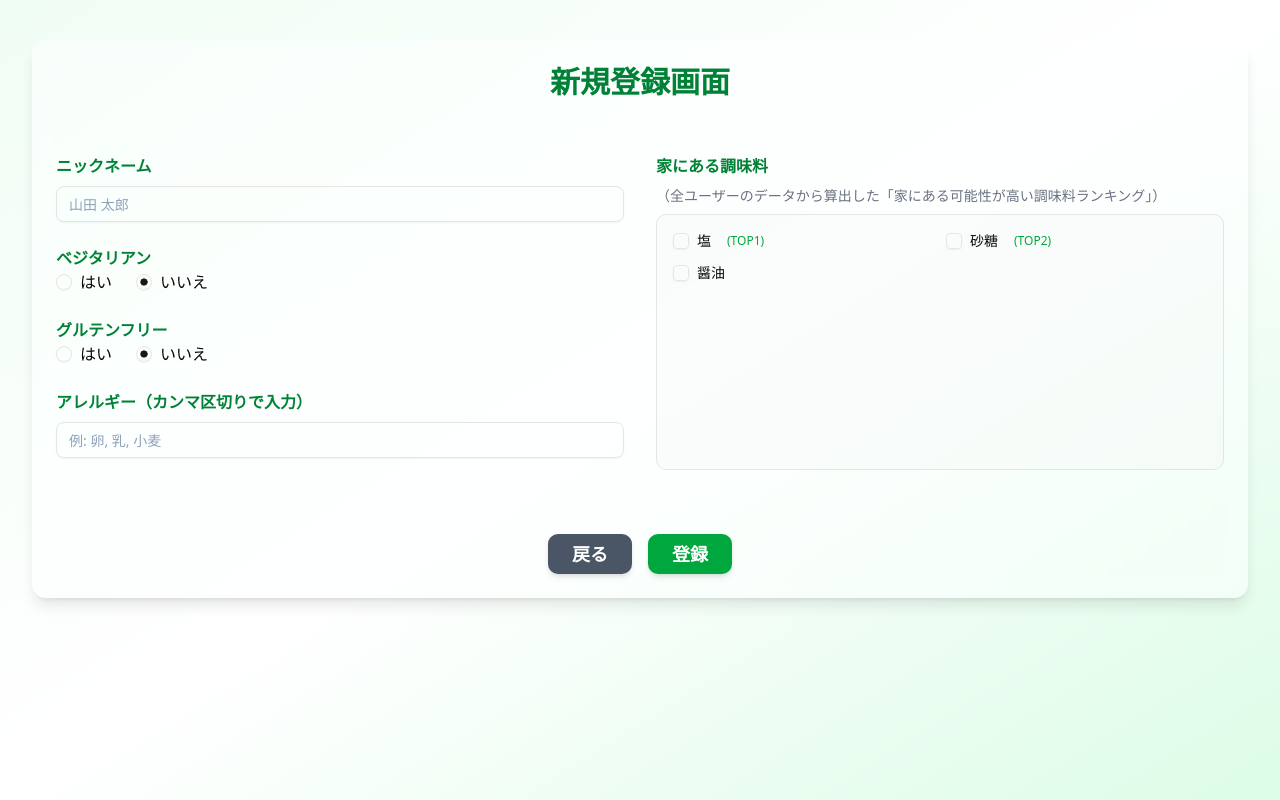
Test: 新規登録画面 › ニックネームがないとエラーメッセージが表示される
Step 1. Clear the field labelled "ニックネーム" → (340, 204), box [56,186,624,222]
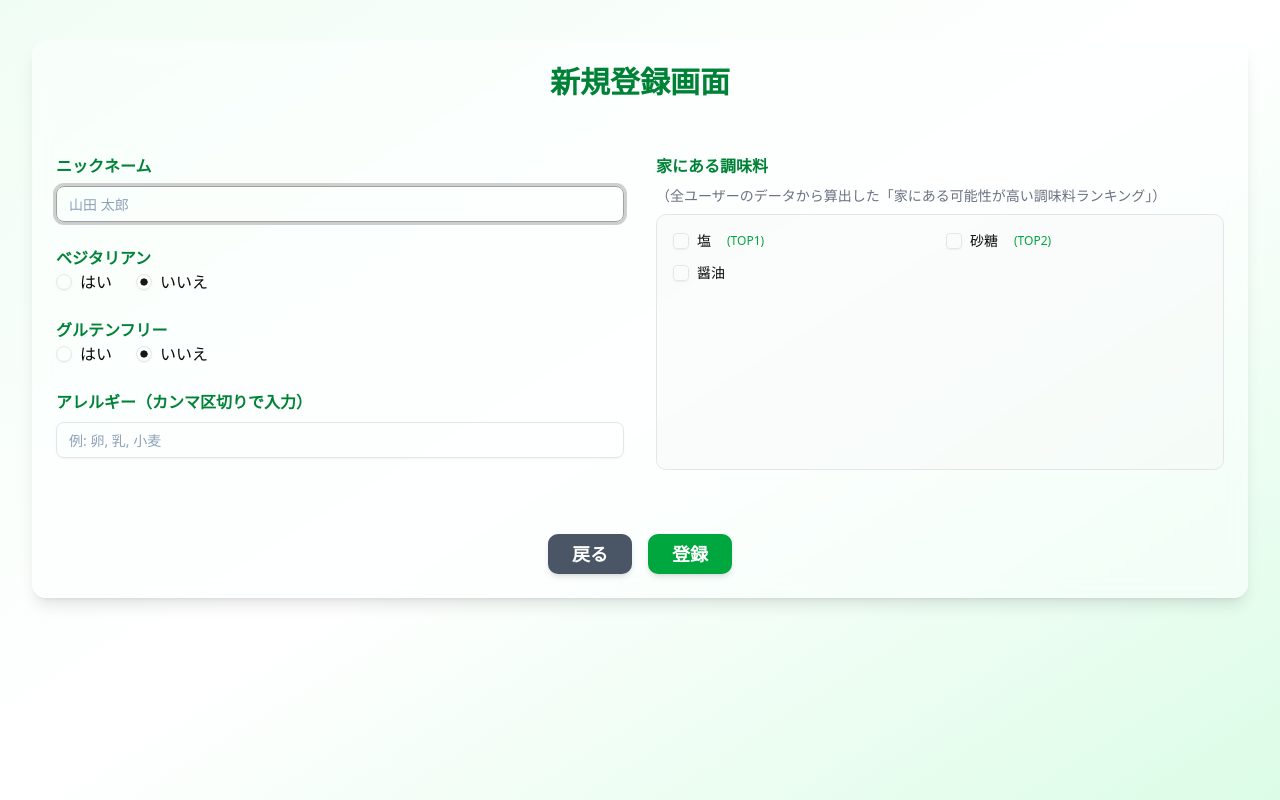
Step 2. Click the button "登録" → (690, 554), box [648,534,732,574]
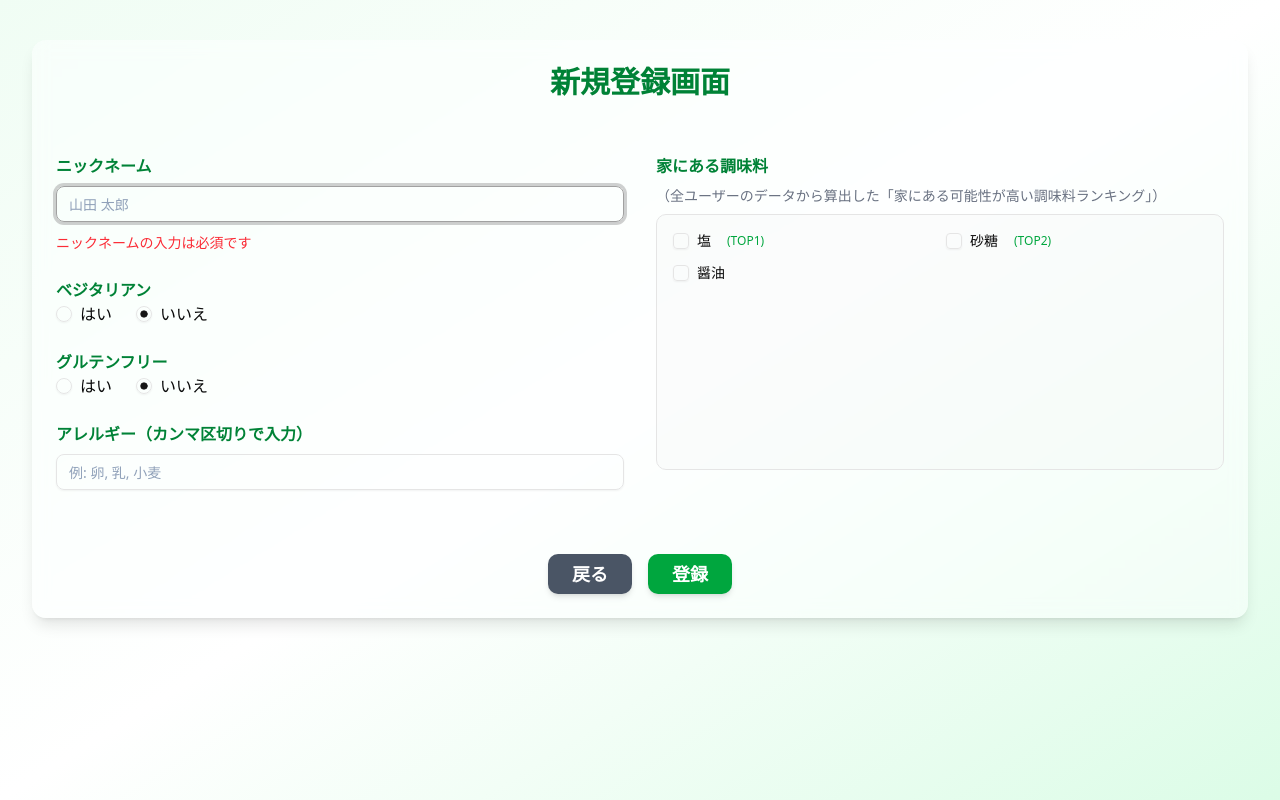
expect the text with test id "nameErrMsg" reads "ニックネームの入力は必須です": met, box [56,233,252,252]
